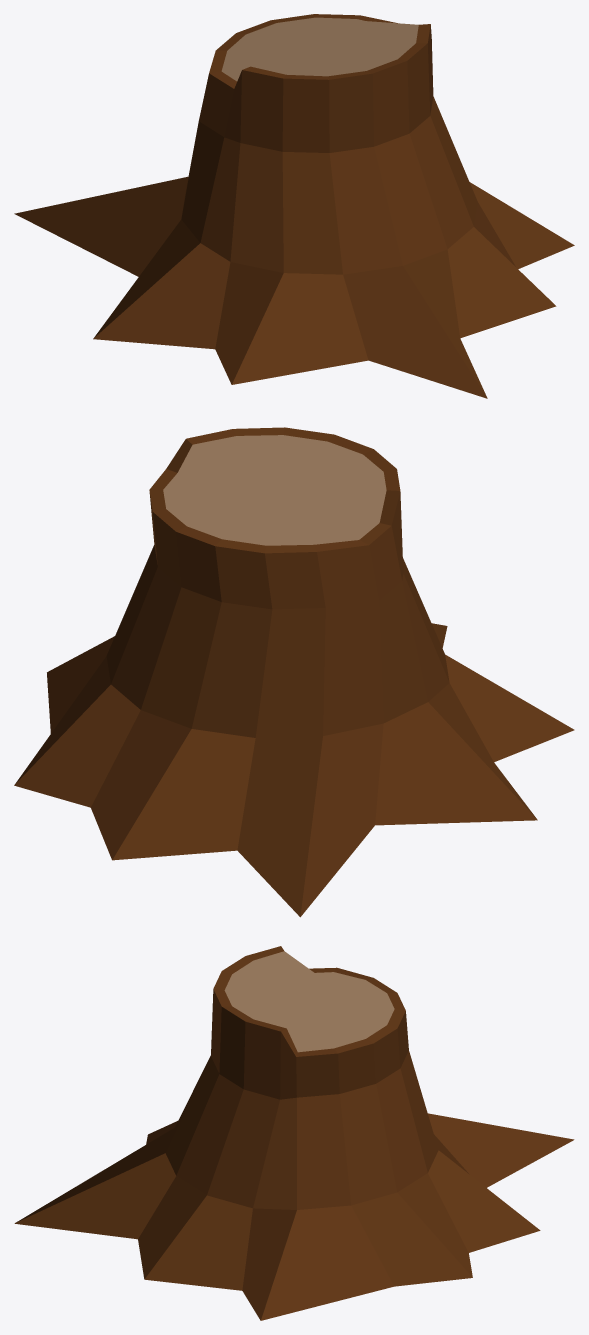
Rendered from Stump.fbx.
3 renders of one model, top to bottom at view 1: azimuth 30°, elevation 25°; view 2: azimuth 150°, elevation 25°; view 3: azimuth 270°, elevation 25°, orthographic. The views are drawn at different scales.
Visible parts, largest first — view 1: Cylinder.001; view 2: Cylinder.001; view 3: Cylinder.001.
Boxes of the visible parts, <box> form: Cylinder.001: <box>14,14,574,398</box>; Cylinder.001: <box>14,427,574,917</box>; Cylinder.001: <box>14,946,574,1320</box>.
Size of the model in its own units: 286 by 150 by 327.
